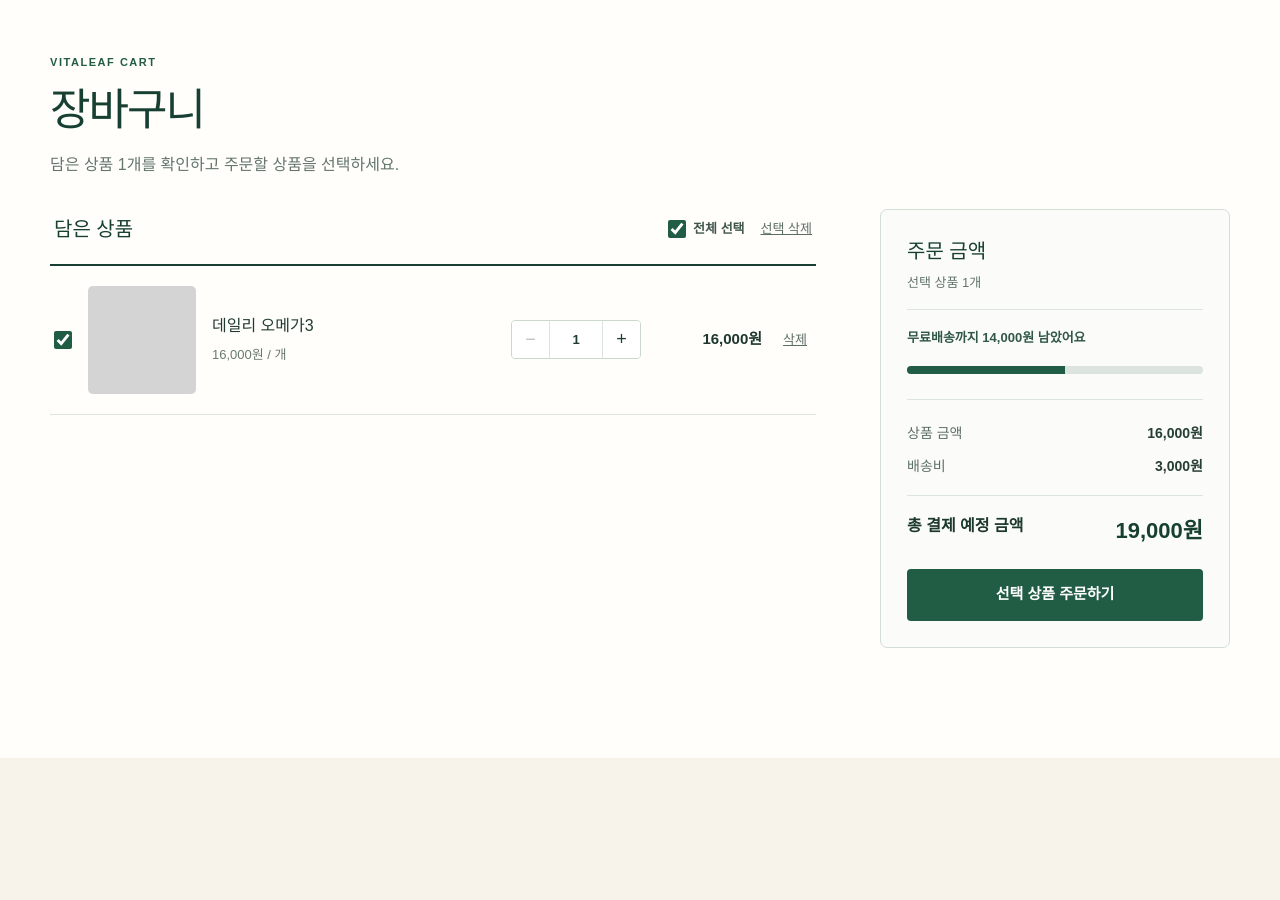
keeps focus inside the delete dialog and restores it after cancellation
The image size is (1280, 900).
Click the button with aria-label "데일리 오메가3 삭제" at (795, 340), box x1=778 y1=325 x2=812 y2=354
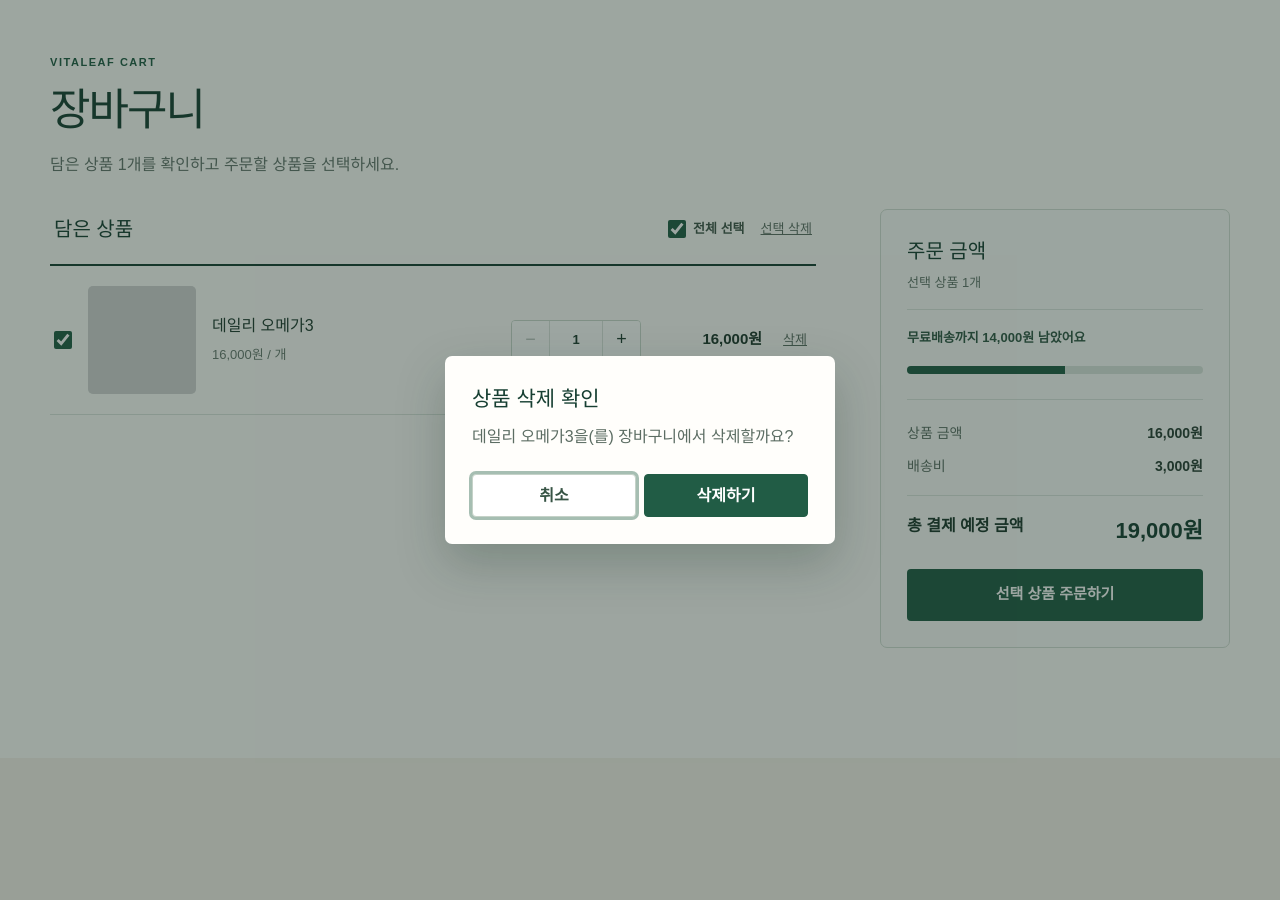
Press Shift+Tab
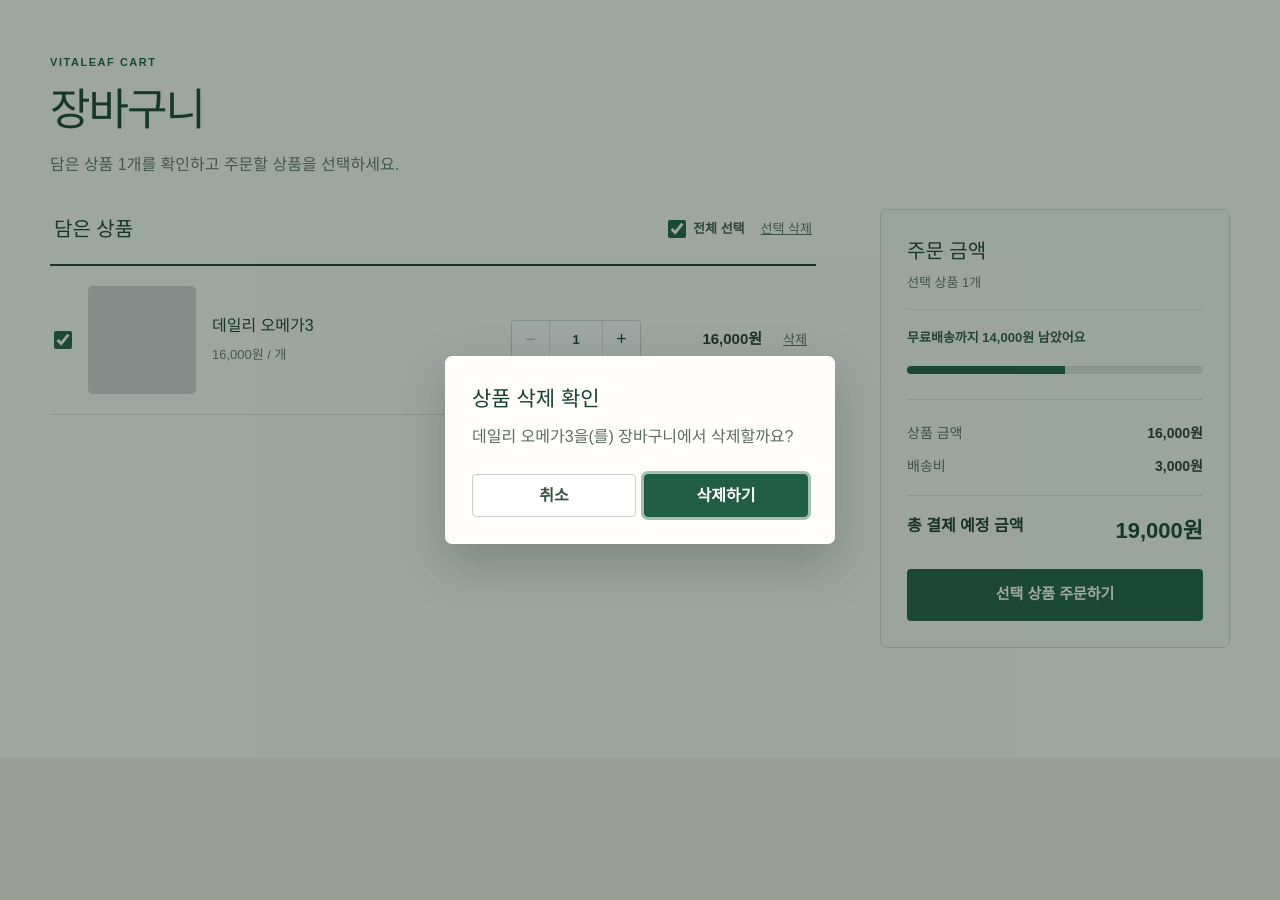
Press Tab
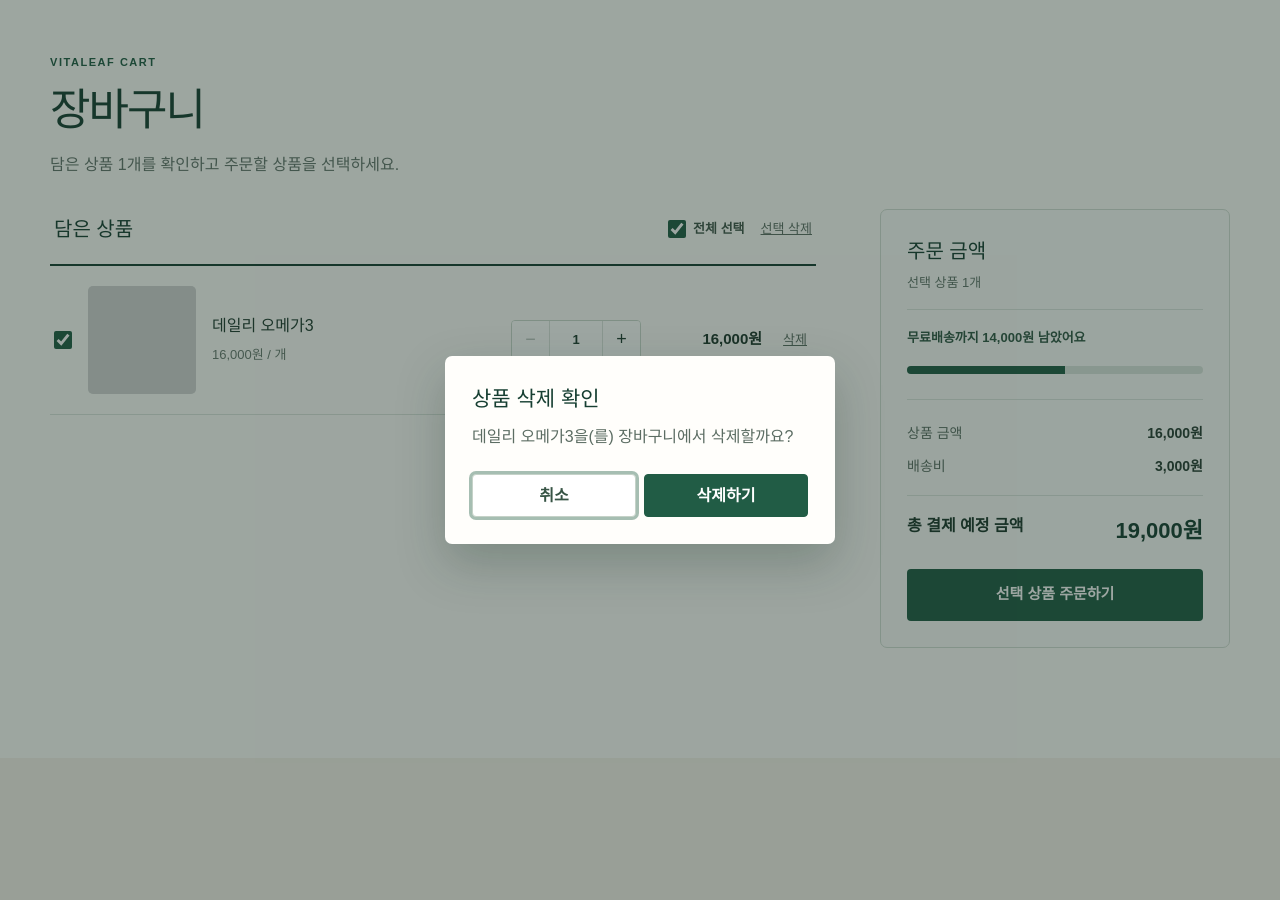
Press Escape
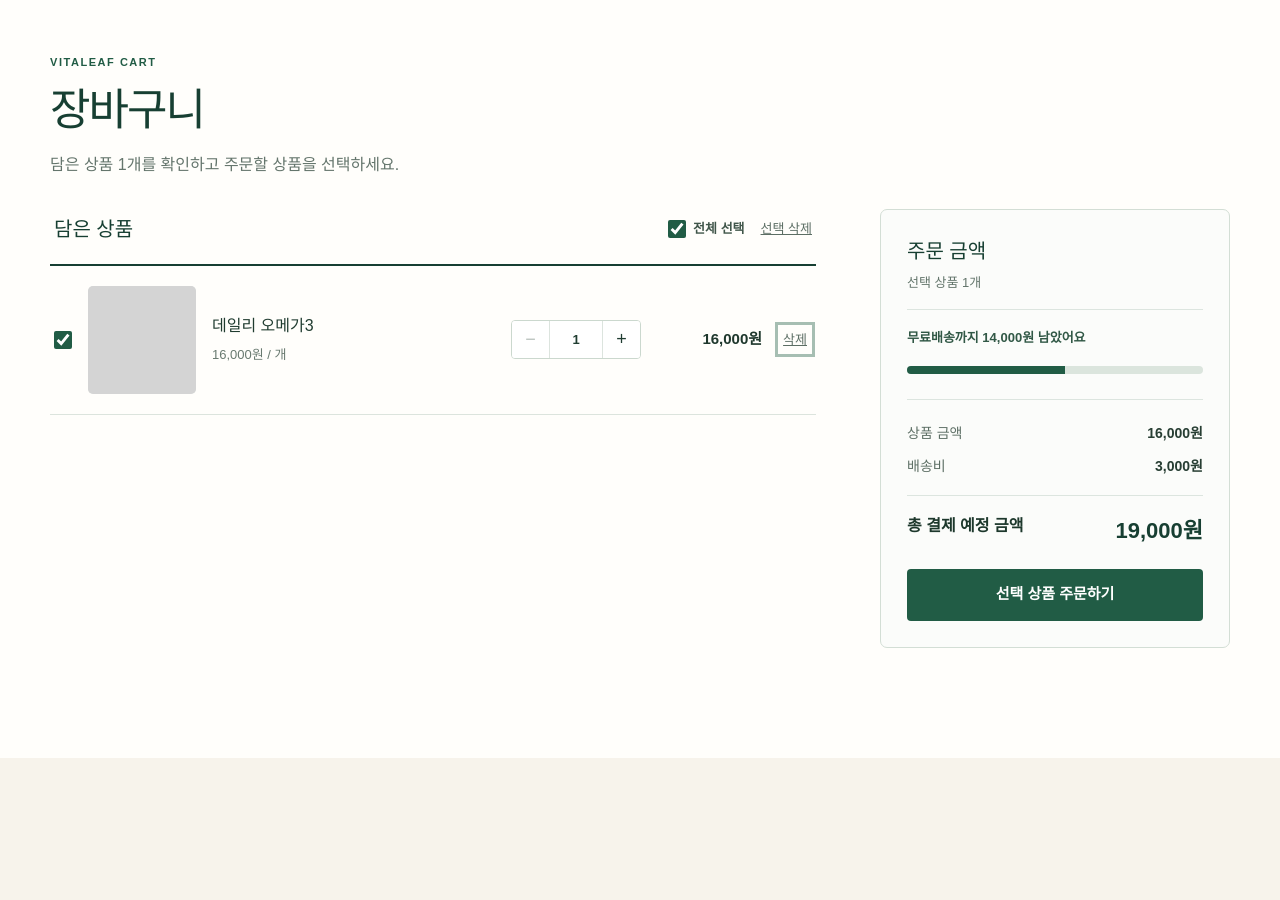
expect the heading "상품 삭제 확인" is gone: met
